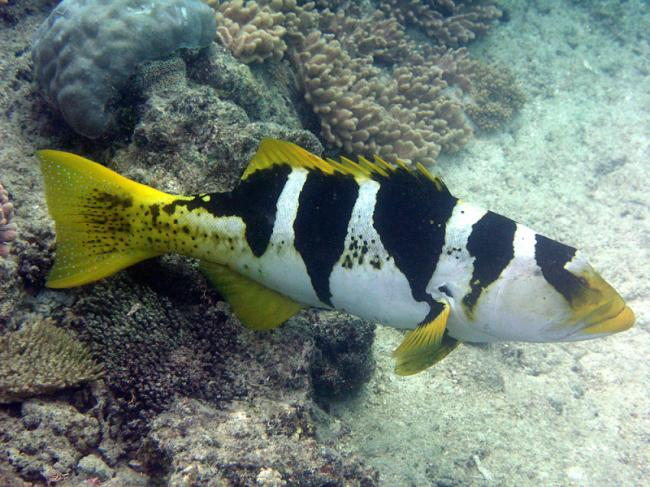fish: (33, 137, 637, 377)
